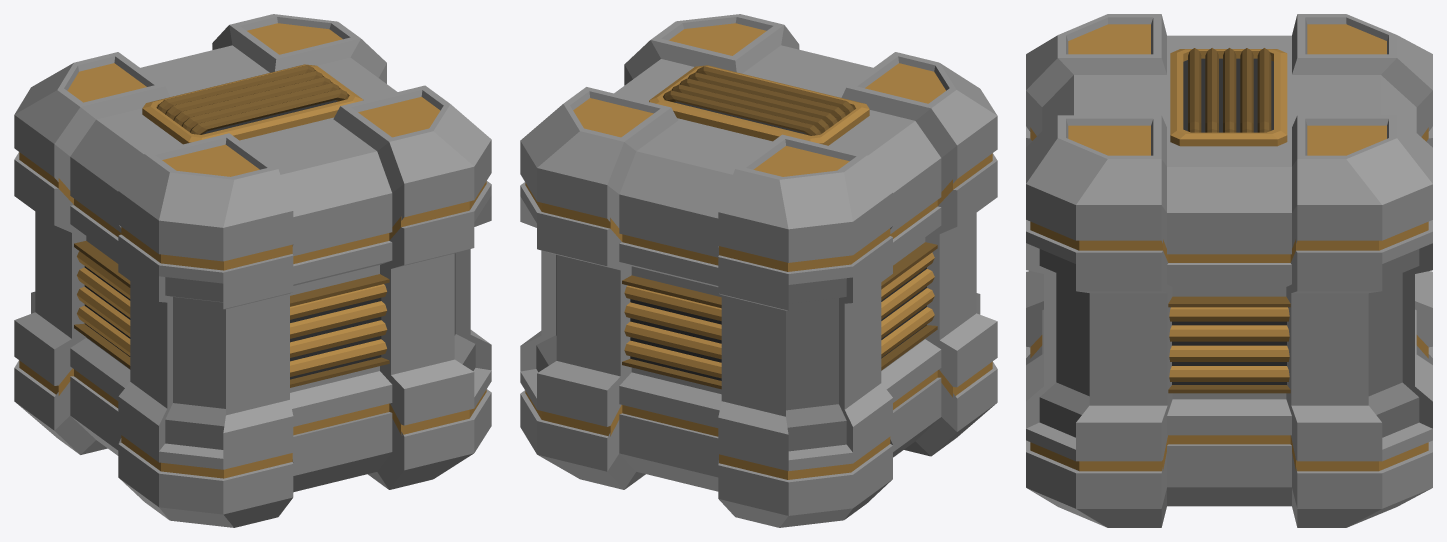
Rendered from Props_Crate.glb.
3 views of the same model, side by side, from view 1: azimuth 30°, elevation 25°; view 2: azimuth 150°, elevation 25°; view 3: azimuth 270°, elevation 25° (orthographic). The views are drawn at different scales.
Visible parts, largest first — view 1: Props_Crate; view 2: Props_Crate; view 3: Props_Crate.
Part boxes in pixels (x1,y1,x2,y2): Props_Crate: [14, 14, 491, 527]; Props_Crate: [520, 14, 997, 527]; Props_Crate: [1026, 14, 1432, 527].
Bounding box in the file's own units: 0.7971 × 0.8055 × 0.7971.
